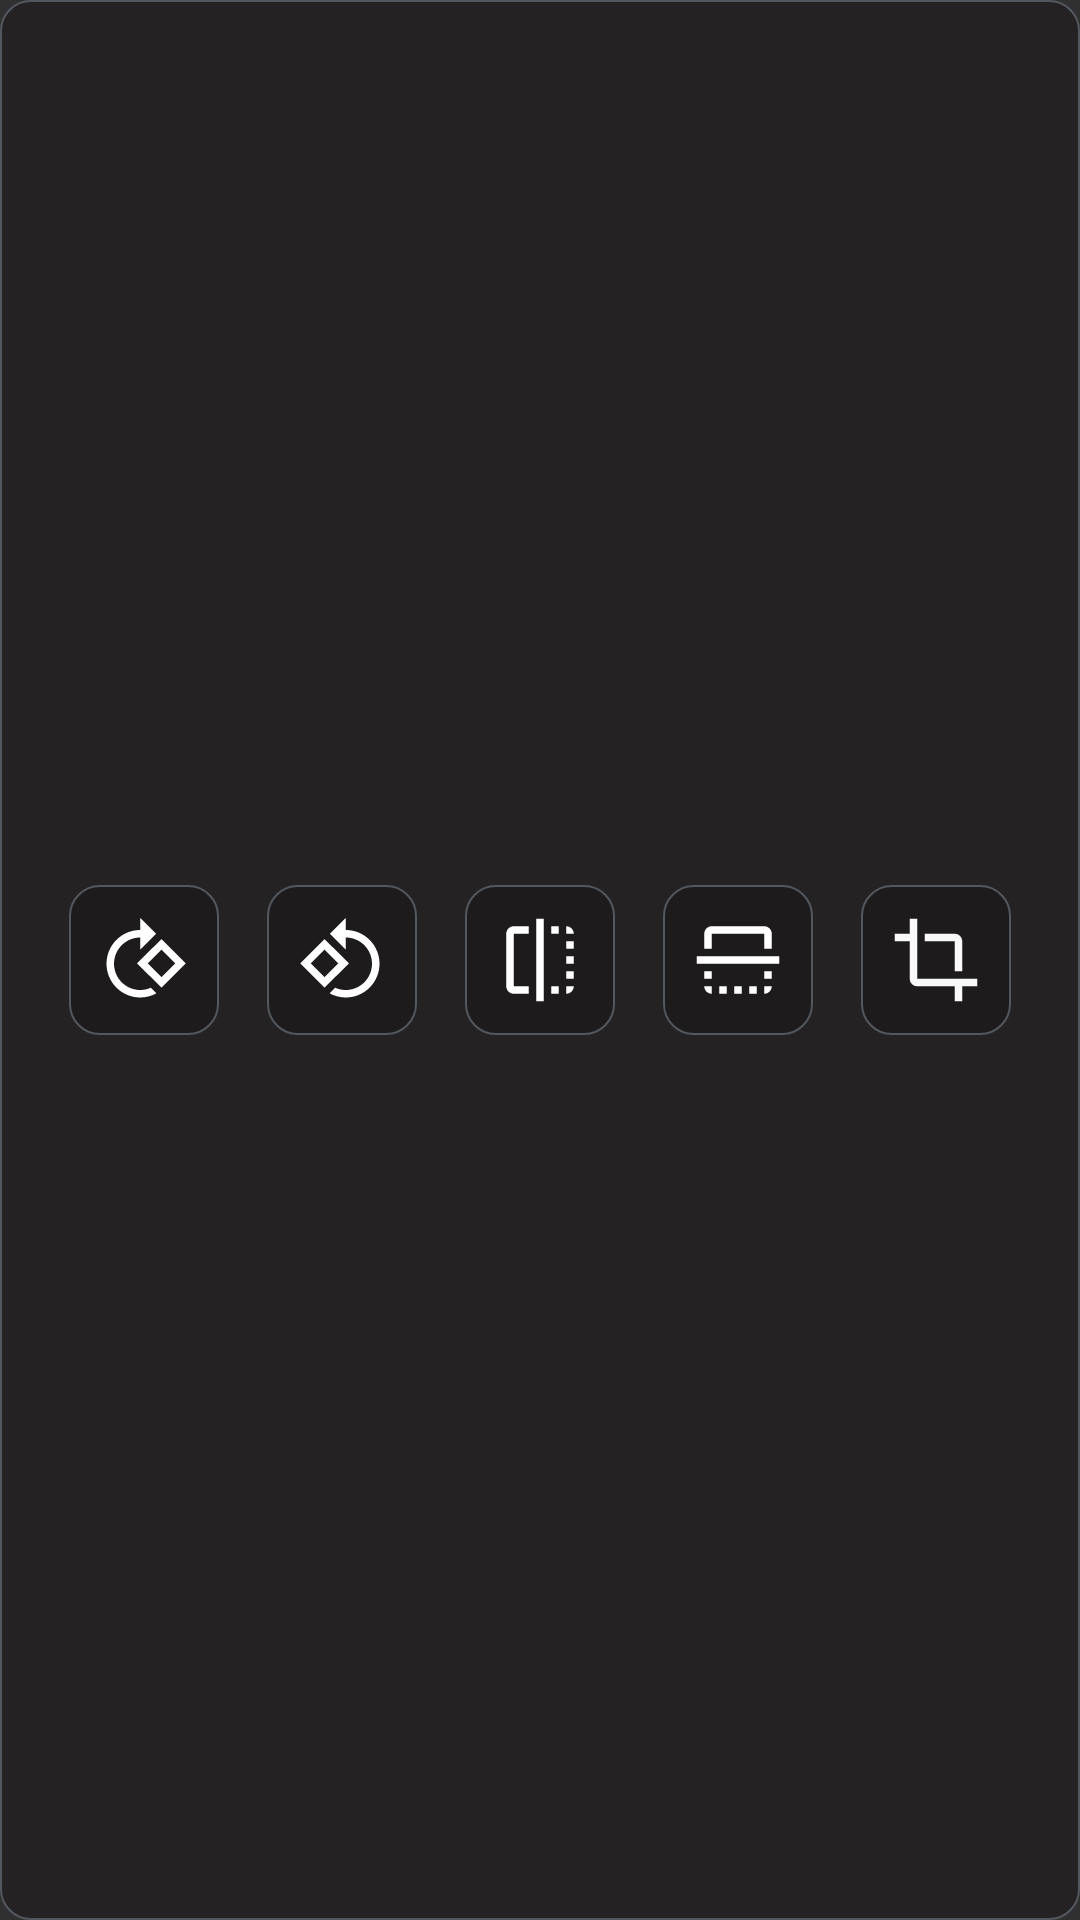

Where to tap for icons on this 1080w x 1920h app screen, as (x,y):
crop: (936,960)
